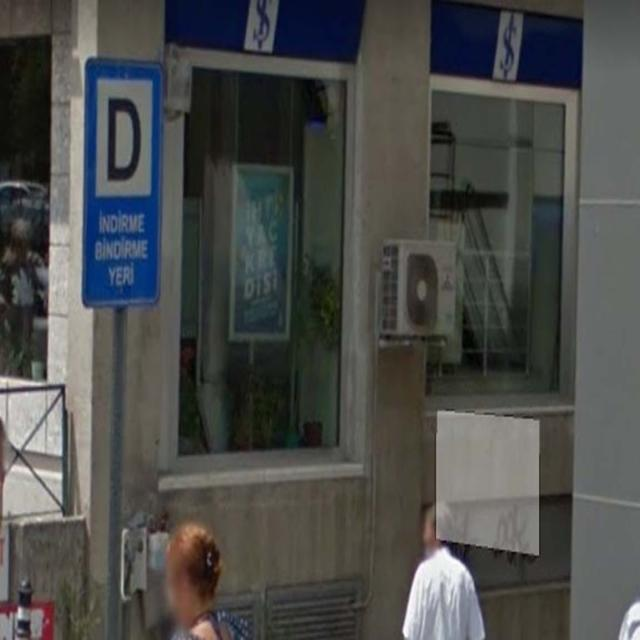durak: (85, 59, 163, 305)
